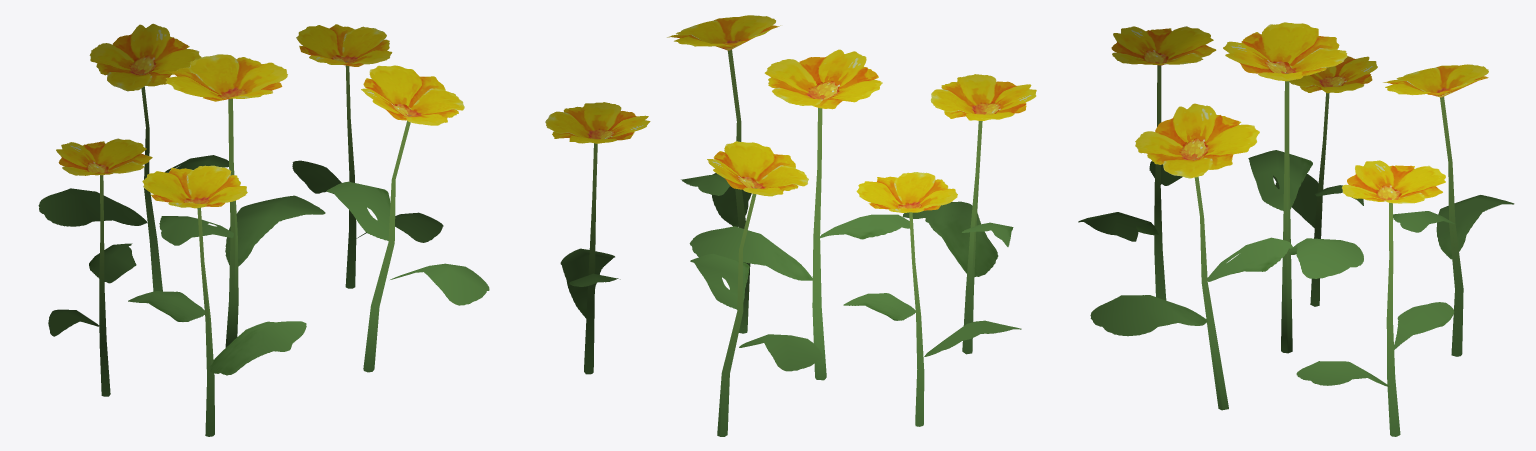
File: FlowersG_Cluster.fbx
The picture shows the model from 3 angles, left to right: view 1: azimuth 30°, elevation 25°; view 2: azimuth 150°, elevation 25°; view 3: azimuth 270°, elevation 25°; orthographic projection. The views are drawn at different scales.
Parts seen in each view (by area): view 1: FlowerG_ClusterLOD0; view 2: FlowerG_ClusterLOD0; view 3: FlowerG_ClusterLOD0.
Boxes of the visible parts, box(x1,y1,x2,y2) form: FlowerG_ClusterLOD0: box(38, 23, 489, 436); FlowerG_ClusterLOD0: box(545, 15, 1036, 436); FlowerG_ClusterLOD0: box(1078, 22, 1514, 436).
Size of what is drawn, in the model's own units: 90.81 by 57.91 by 74.88.
